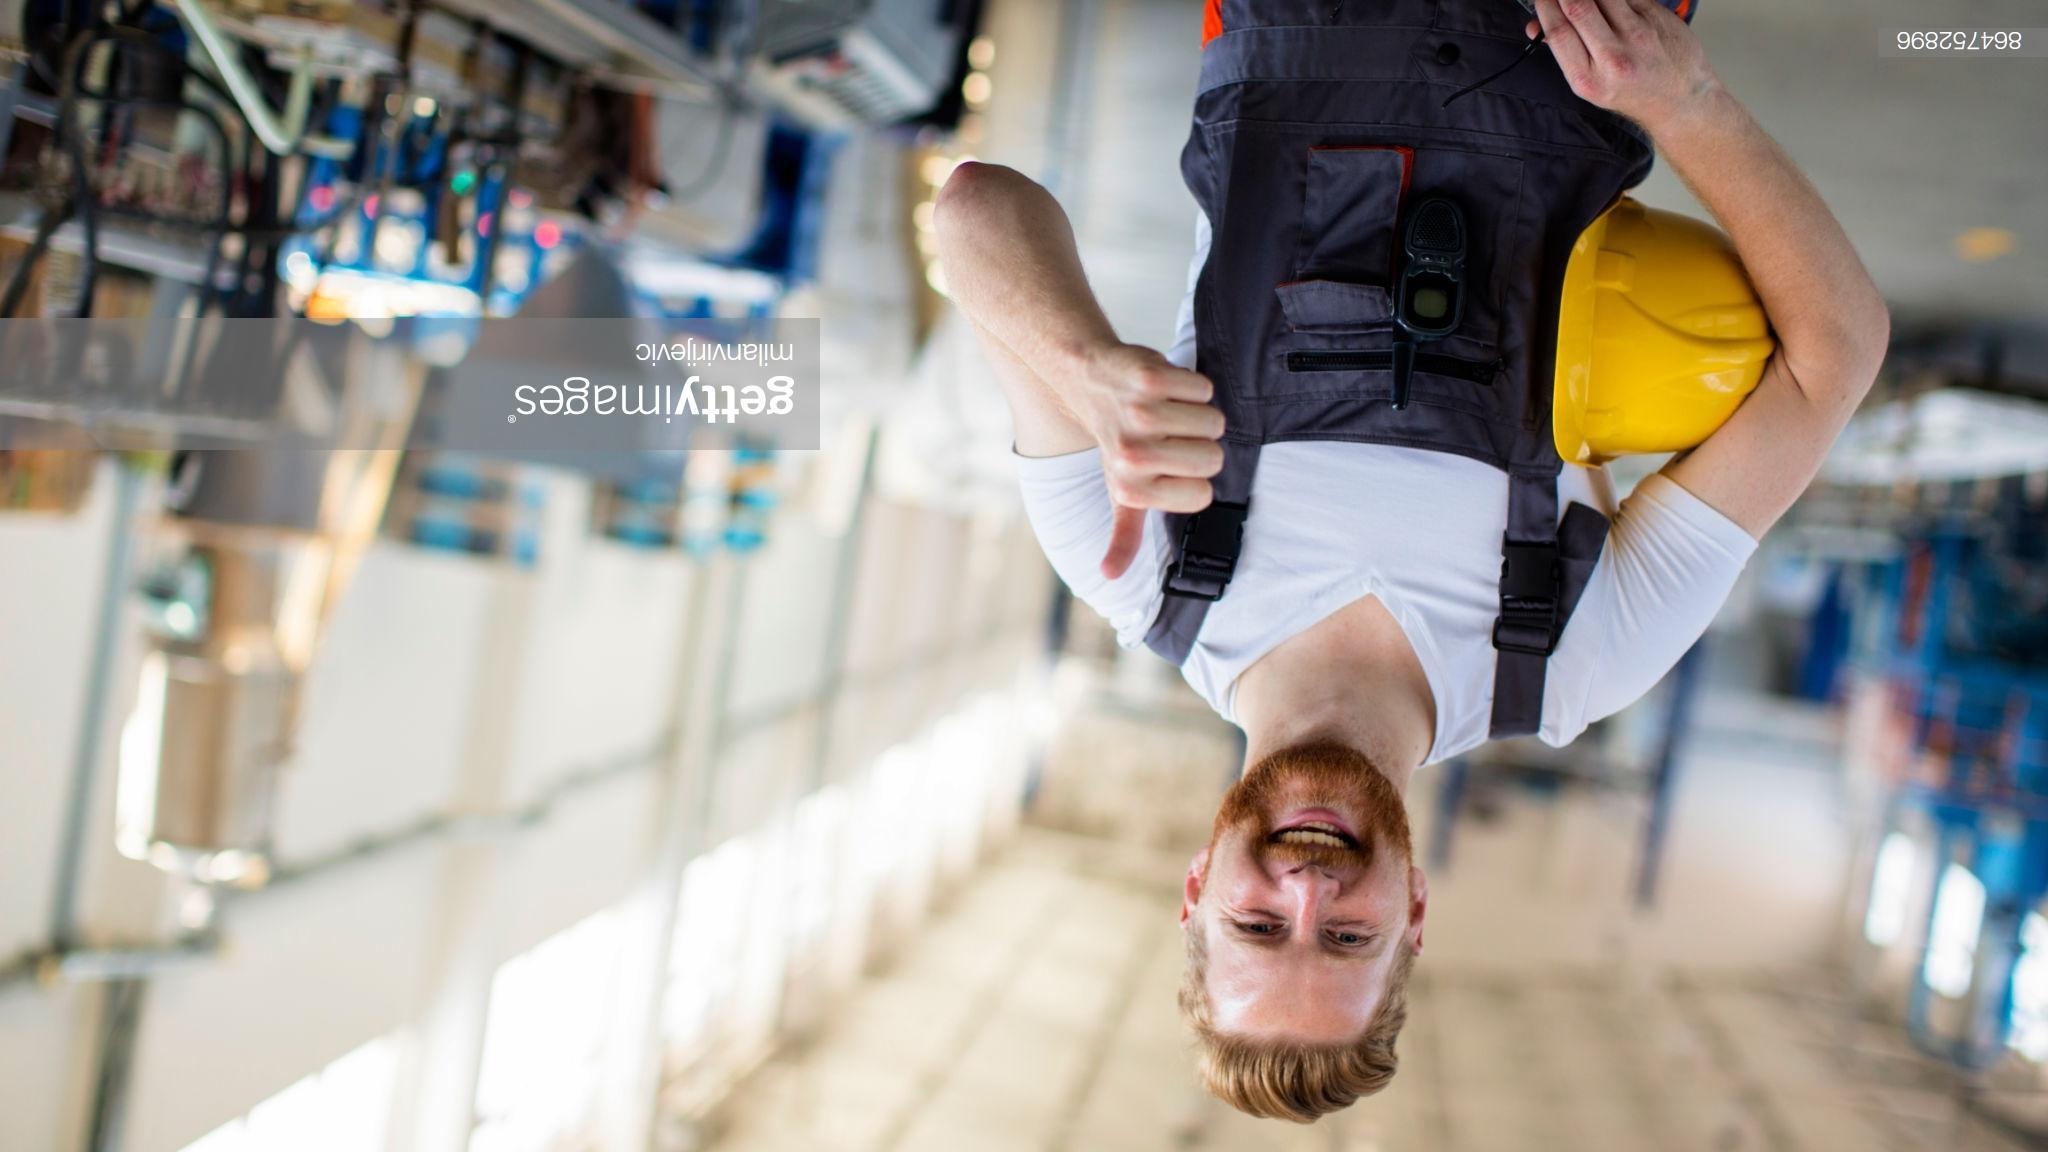thumbsdown: (1097, 361, 1227, 580)
